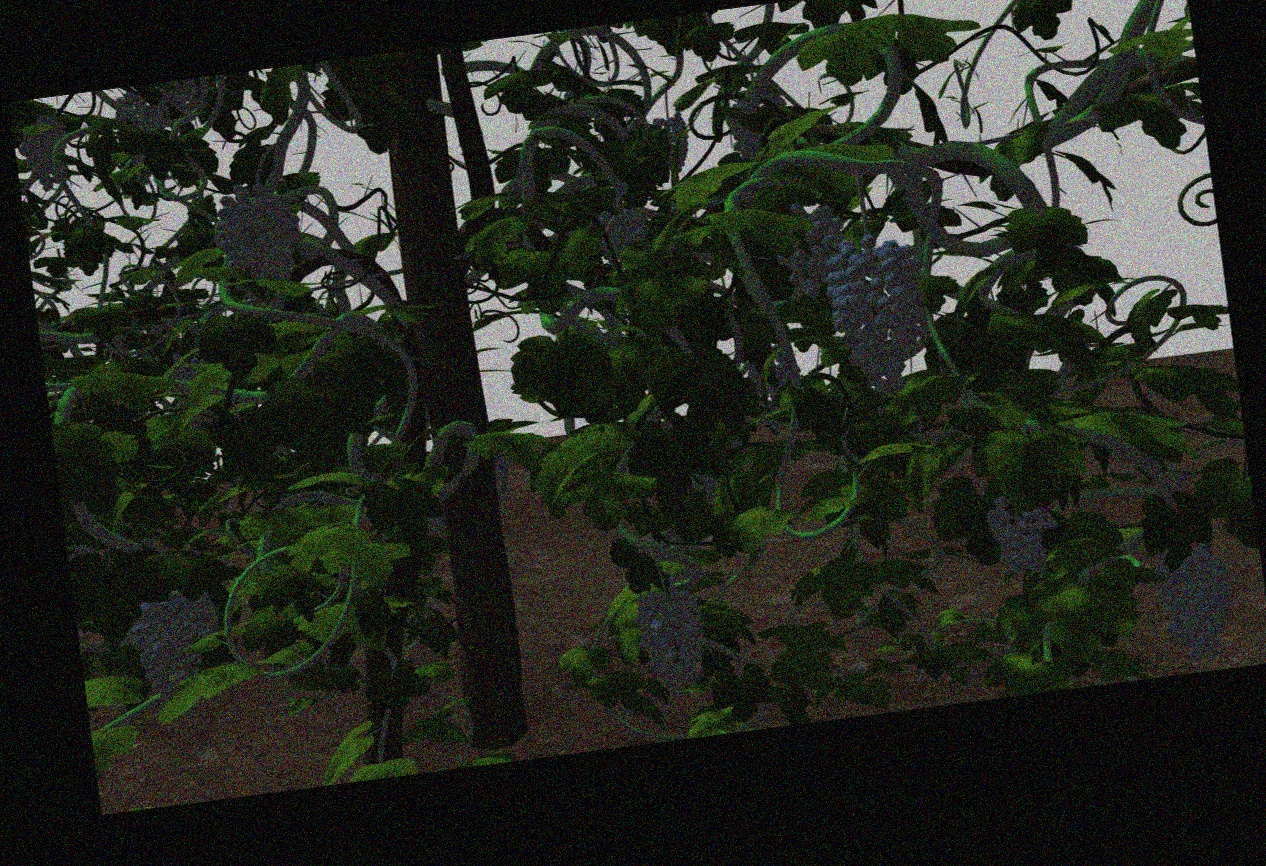grape: (829, 234, 929, 392), (1156, 547, 1236, 662), (215, 180, 300, 288), (132, 588, 215, 693), (637, 589, 707, 695), (773, 203, 841, 293), (985, 496, 1059, 572), (20, 111, 68, 192), (595, 205, 649, 263)
